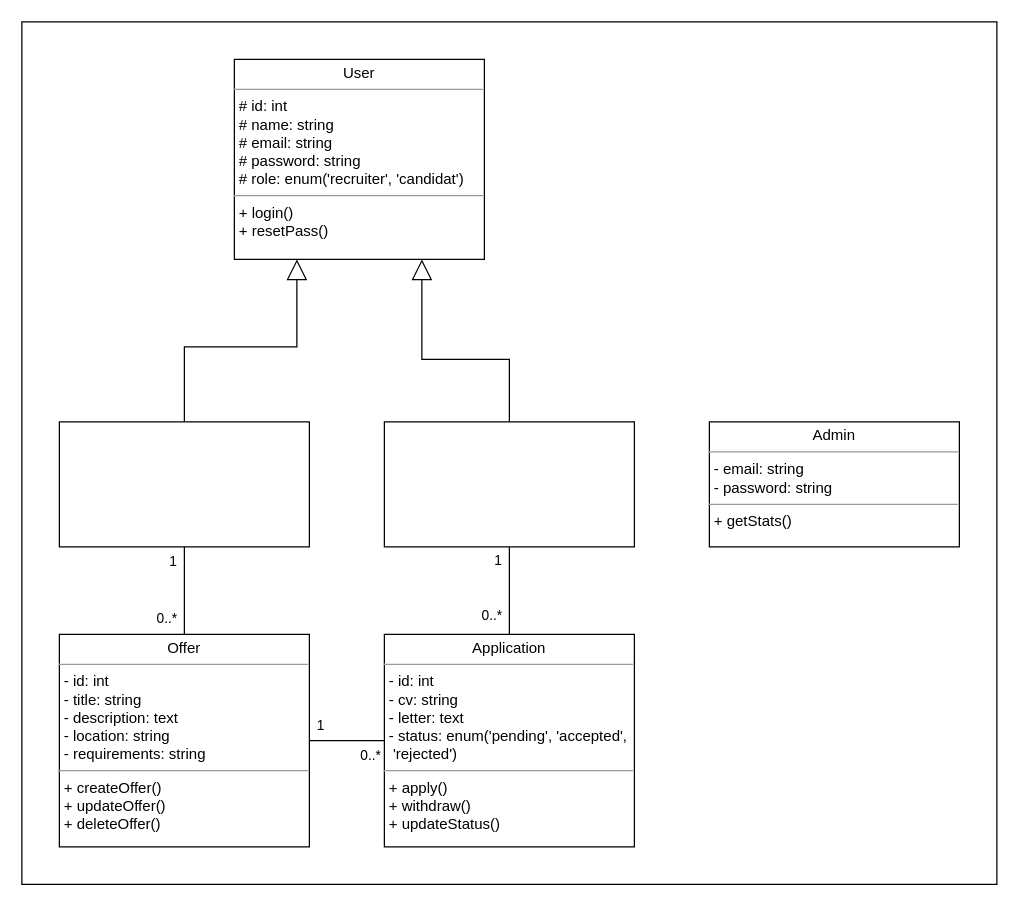
This 1019x906 diagram has some shape labels left out. The box of each missing label's shape, as (x1, y1, x2, y2) in pixels:
Candidat: (383, 421, 634, 547)
Recruiter: (58, 421, 309, 547)
